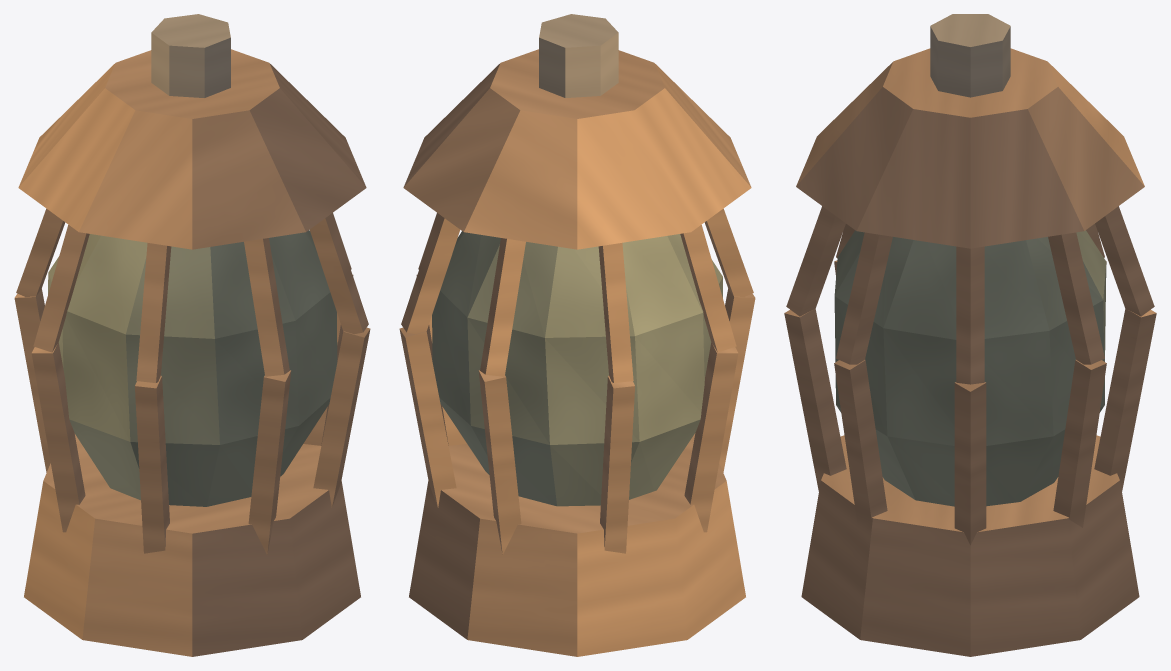
The model's file is watch_warm_dark.glb.
3 renders of one model, left to right at view 1: azimuth 30°, elevation 25°; view 2: azimuth 150°, elevation 25°; view 3: azimuth 270°, elevation 25°, orthographic.
Visible parts, largest first — view 1: Wegwachtlaterne; view 2: Wegwachtlaterne; view 3: Wegwachtlaterne.
Part boxes in pixels (x1=…): Wegwachtlaterne: x1=14, y1=14, x2=370, y2=656; Wegwachtlaterne: x1=399, y1=14, x2=755, y2=656; Wegwachtlaterne: x1=784, y1=14, x2=1156, y2=656.
Bounding box in the file's own units: 0.4687 × 0.77 × 0.4687.
Materials: 2 (2 with a texture image).
